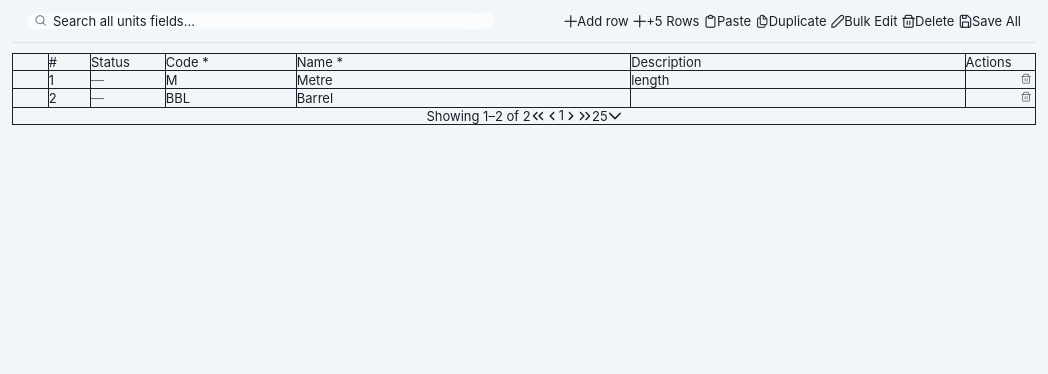
ExcelGrid › blocks bulk save when required cells are empty and reports row errors
Click the button "+5 Rows". click: (666, 21)
box: [633,13,700,29]
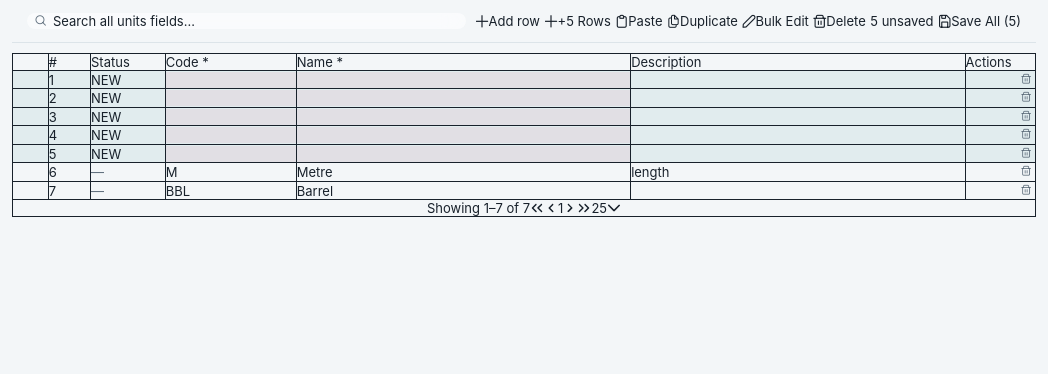
Click the button "Save All (5)". click: (980, 21)
box: [938,13,1021,29]
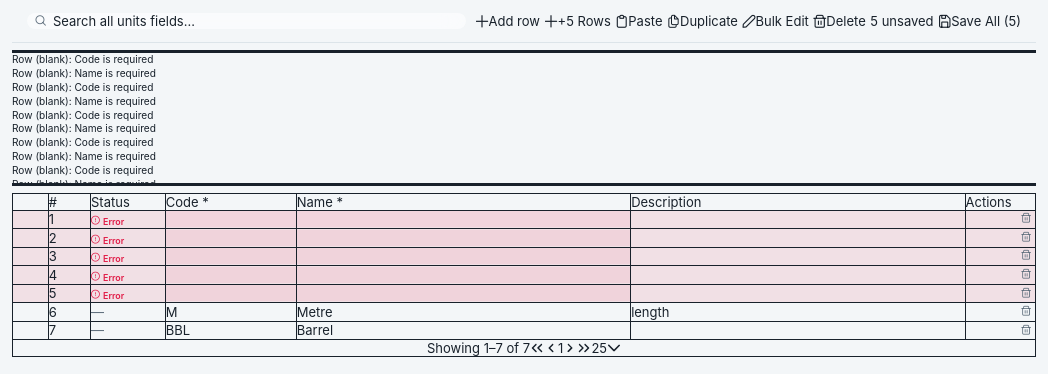
Now the text "Code is required" is shown, box [12,53,153,65]
